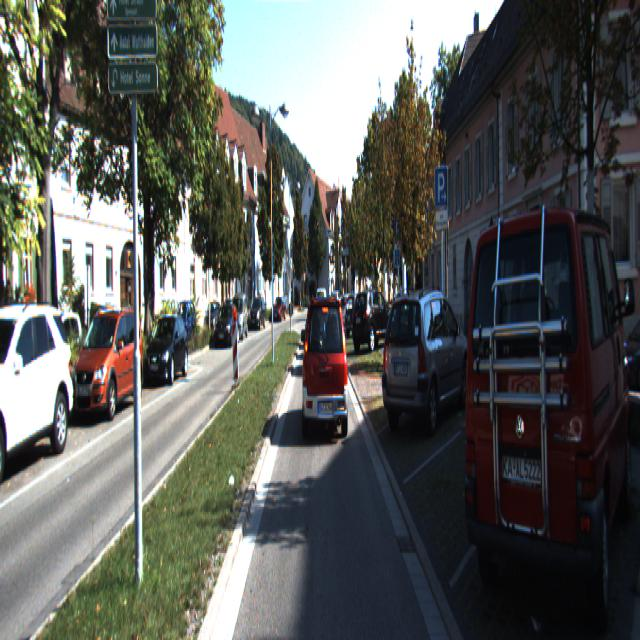Car: (461, 190, 635, 638), (0, 304, 77, 480), (383, 290, 472, 440), (69, 300, 145, 416), (303, 298, 350, 444), (26, 310, 84, 402), (143, 316, 189, 386), (350, 288, 396, 352), (610, 318, 640, 394), (343, 292, 372, 338), (214, 303, 240, 347), (337, 292, 365, 328), (230, 292, 249, 340), (249, 297, 266, 331), (271, 298, 288, 323)
